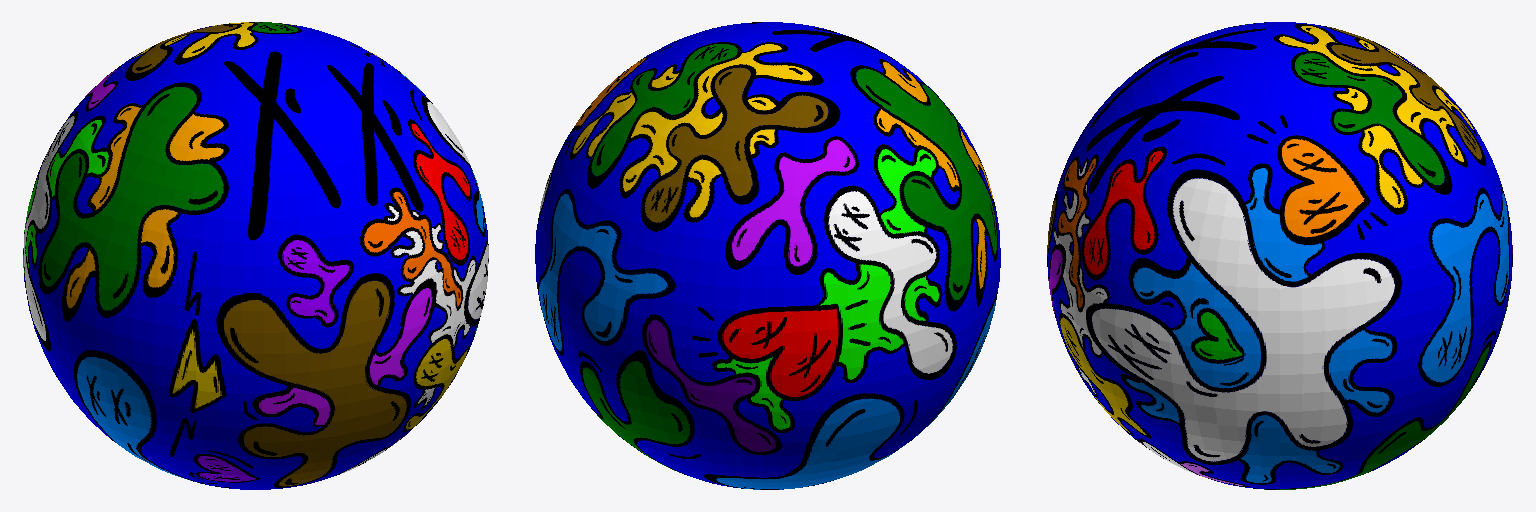
3 renders of one model, left to right at view 1: azimuth 30°, elevation 25°; view 2: azimuth 150°, elevation 25°; view 3: azimuth 270°, elevation 25°, orthographic.
Visible parts, largest first — view 1: Sphere_None; view 2: Sphere_None; view 3: Sphere_None.
Boxes of the visible parts, x1=… form: Sphere_None: x1=23, y1=22, x2=488, y2=489; Sphere_None: x1=535, y1=22, x2=1000, y2=489; Sphere_None: x1=1047, y1=22, x2=1512, y2=489.
Bounding box in the file's own units: 6.06 × 6.12 × 6.06.
1 materials, 1 textured.